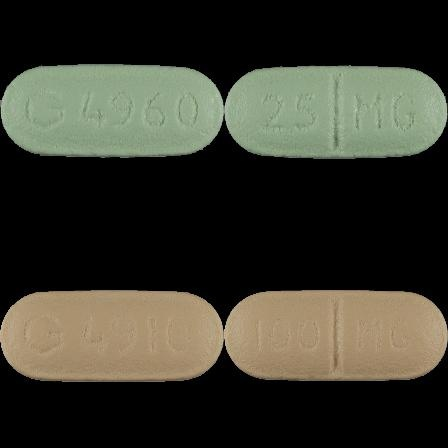49999-860: (0, 0, 224, 224)
